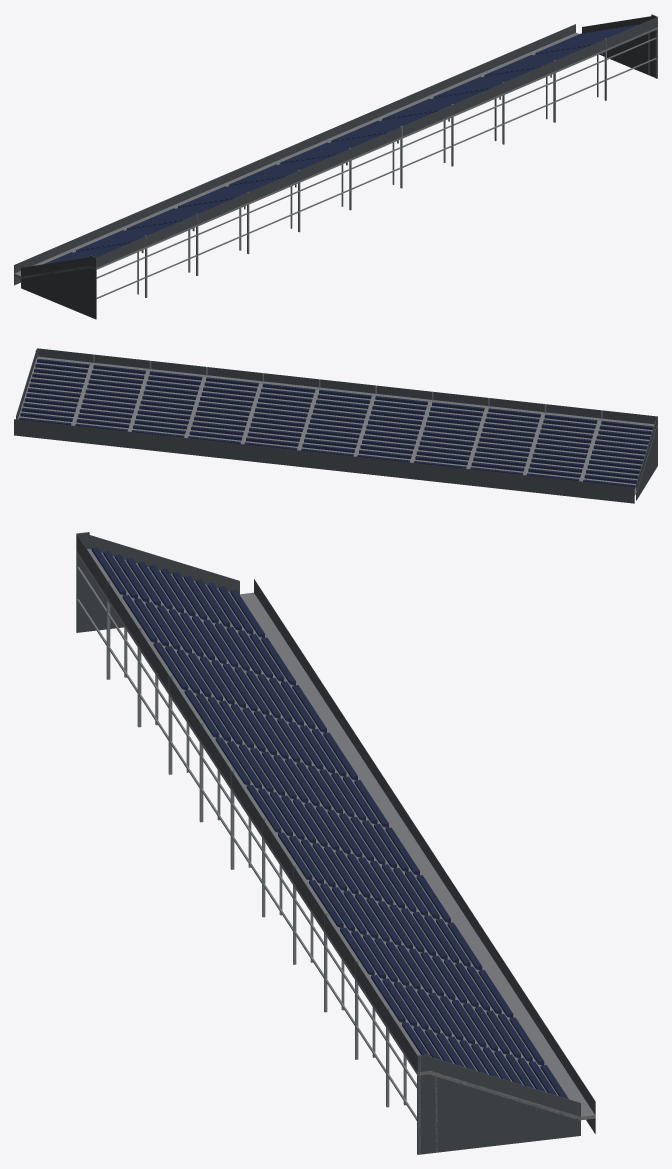
Rendered from sil_stand_chapel.glb.
The picture shows the model from 3 angles, top to bottom: view 1: azimuth 30°, elevation 25°; view 2: azimuth 150°, elevation 25°; view 3: azimuth 270°, elevation 25°; orthographic projection. The views are drawn at different scales.
Parts seen in each view (by area): view 1: silverstone-chapel; view 2: silverstone-chapel; view 3: silverstone-chapel.
Boxes of the visible parts, x1,y1,x2,y2 form: silverstone-chapel: (14,14,657,319); silverstone-chapel: (14,348,657,503); silverstone-chapel: (76,532,595,1154).
Size of the model in its own units: 85.8 by 7.28 by 34.67.
